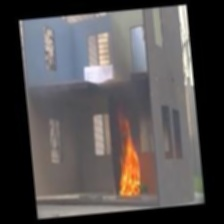fire: (112, 124, 151, 204)
